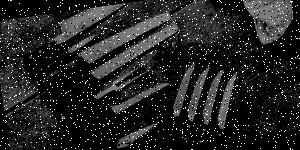knife: (45, 16, 185, 116), (36, 10, 177, 97), (64, 77, 178, 146), (54, 59, 153, 129), (23, 5, 125, 68), (159, 61, 204, 146), (29, 33, 101, 81), (191, 62, 230, 144)
